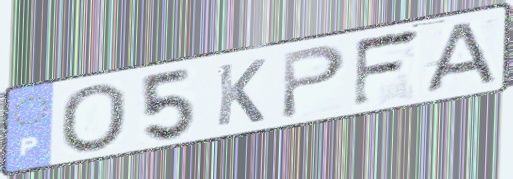5: (136, 64, 199, 143)
A: (417, 18, 501, 96)
F: (350, 25, 425, 111)
K: (213, 56, 269, 129)
O: (58, 81, 130, 155)
P: (279, 42, 349, 123)
